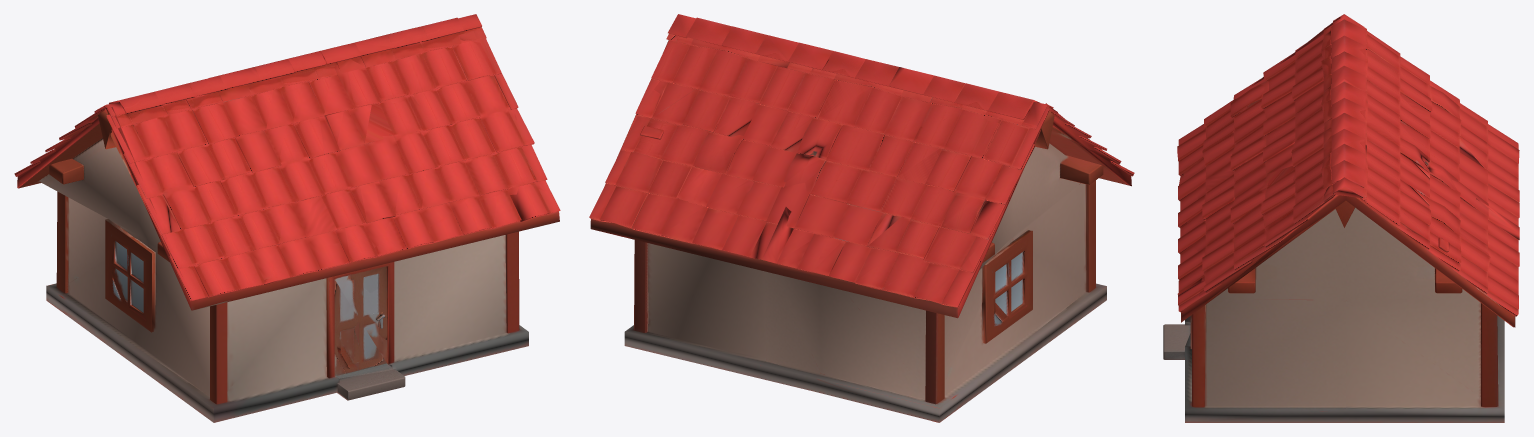
File: meshy_house_roof.glb
3 renders of one model, left to right at view 1: azimuth 30°, elevation 25°; view 2: azimuth 150°, elevation 25°; view 3: azimuth 270°, elevation 25°, orthographic. The views are drawn at different scales.
Bounding box in the file's own units: 0.9536 × 0.647 × 0.8271.
1 material, 1 textured.
